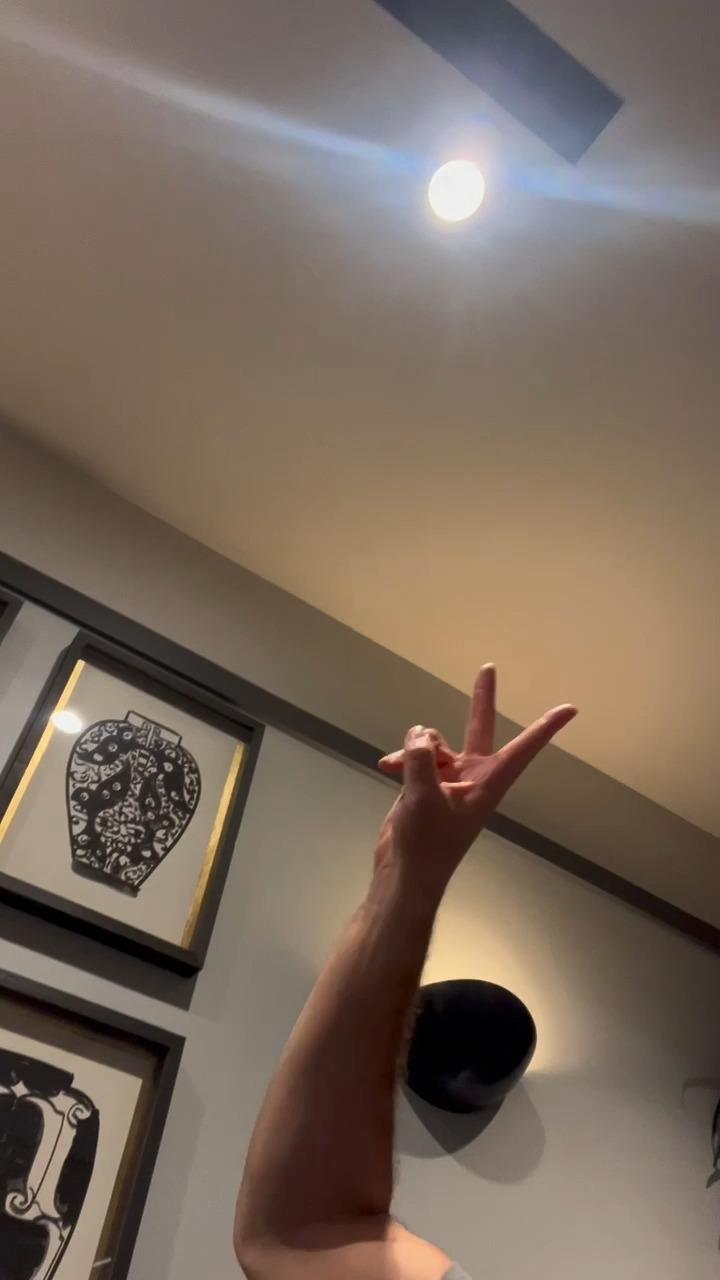Scissors: (374, 660, 579, 908)
